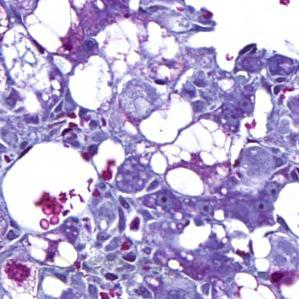ballooning: (139, 91, 241, 200), (93, 13, 189, 91), (4, 22, 55, 98)
